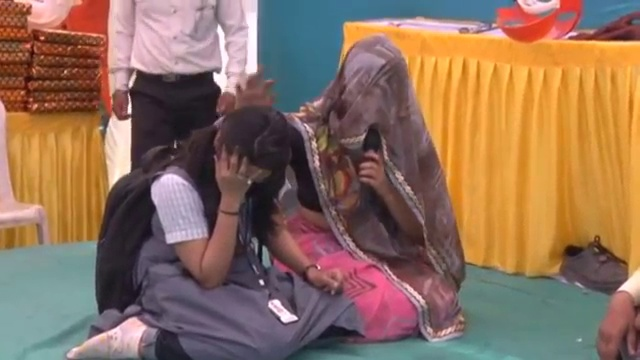helmet: (12, 2, 85, 33)
helmet_off: (208, 104, 296, 198), (335, 38, 414, 132)
person: (61, 105, 364, 360), (285, 38, 471, 343), (105, 0, 251, 164)
